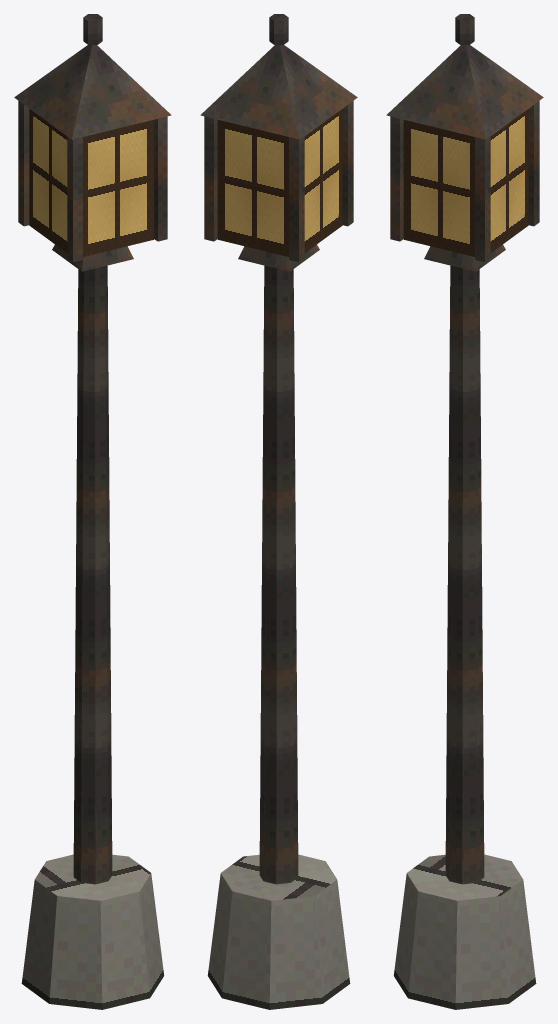
File: farol.obj
The picture shows the model from 3 angles, left to right: view 1: azimuth 30°, elevation 25°; view 2: azimuth 150°, elevation 25°; view 3: azimuth 330°, elevation 25°; orthographic projection.
Visible parts, largest first — view 1: farol; view 2: farol; view 3: farol.
Boxes of the visible parts, x1,y1,x2,y2 form: farol: [14, 14, 171, 1009]; farol: [200, 14, 357, 1009]; farol: [386, 14, 543, 1009].
Bounding box in the file's own units: 0.4065 × 3.25 × 0.4065.
3 materials, 3 textured.
